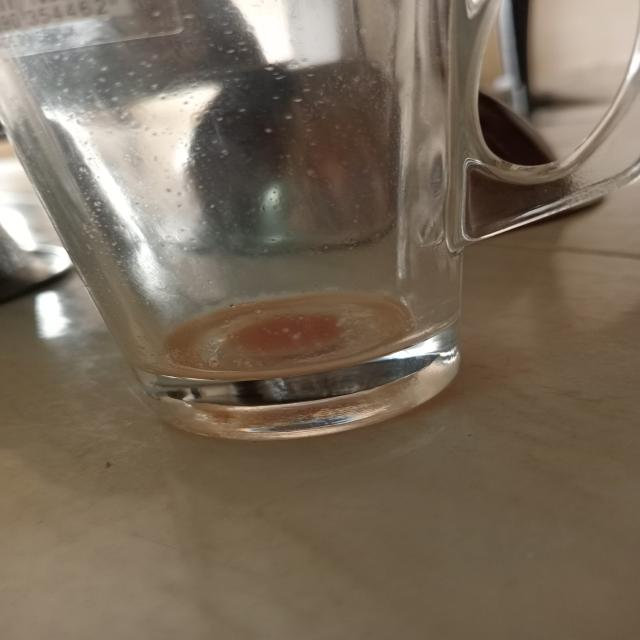glass-VX4N: (2, 0, 640, 442)
